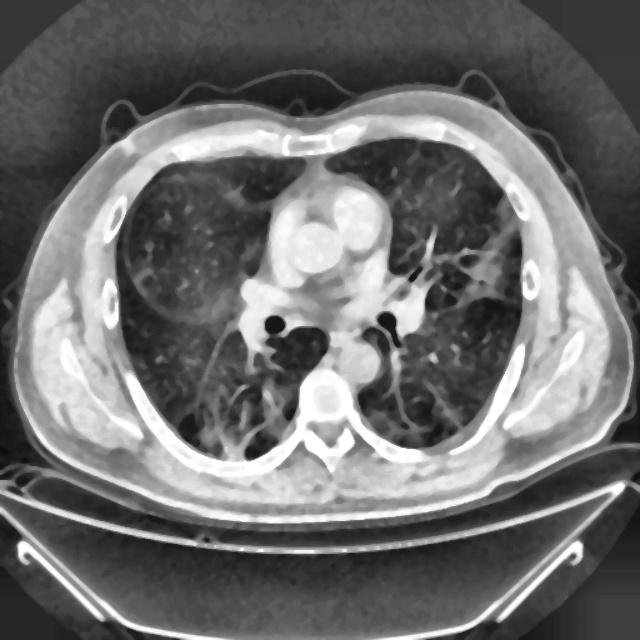covid: (8, 72, 636, 534)
